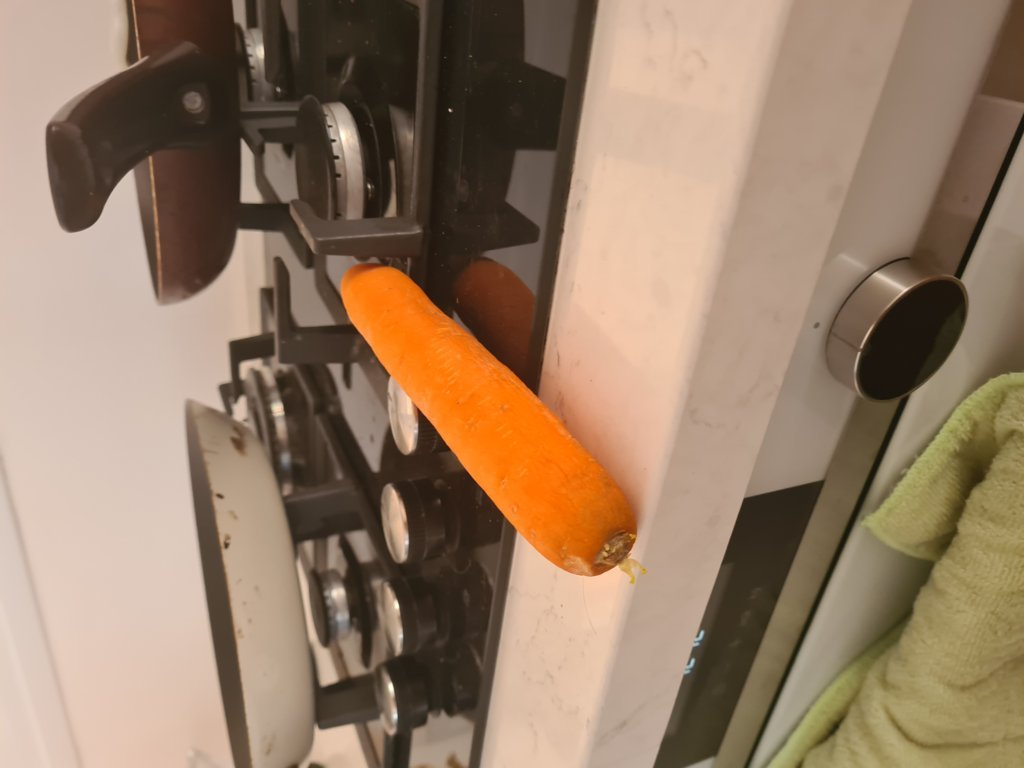carrot: (335, 252, 645, 570)
